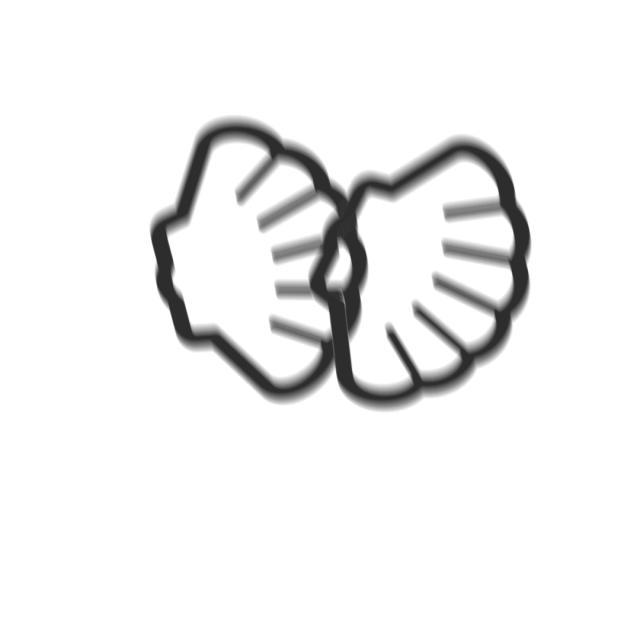shell: (306, 128, 539, 416), (146, 112, 371, 408)
